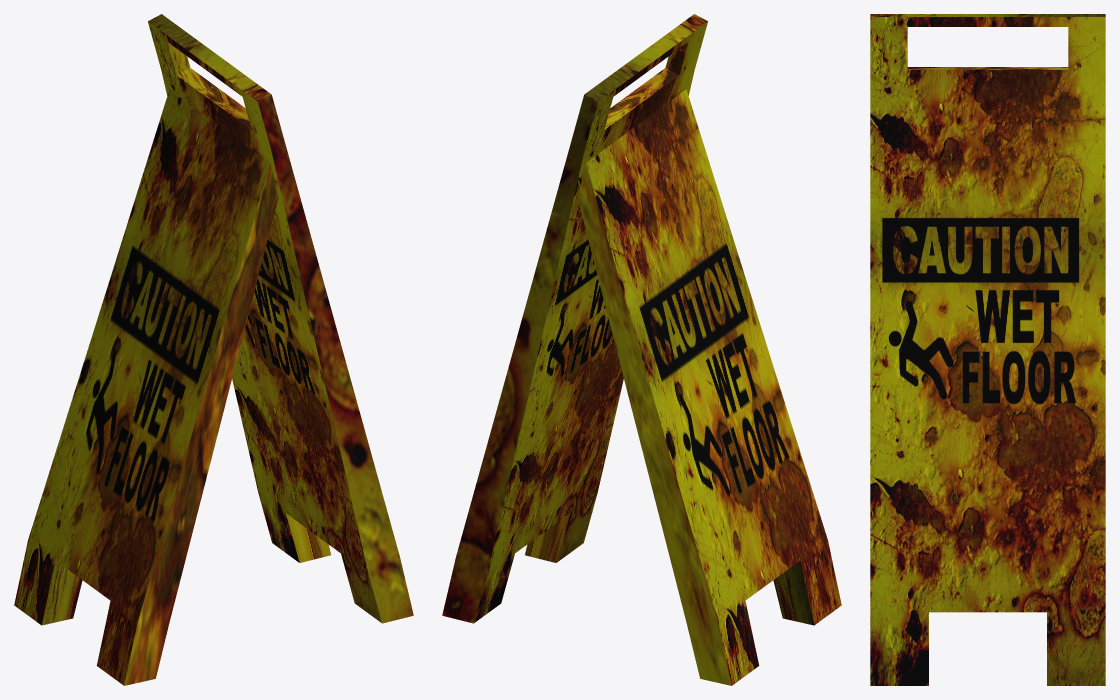
Rendered from wetfloorsign.fbx.
3 renders of one model, left to right at view 1: azimuth 30°, elevation 25°; view 2: azimuth 150°, elevation 25°; view 3: azimuth 270°, elevation 25°, orthographic. The views are drawn at different scales.
Parts seen in each view (by area): view 1: pCube5, pCube4; view 2: pCube5, pCube4; view 3: pCube4.
Boxes of the visible parts, x1,y1,x2,y2 form: pCube5: [14, 89, 278, 685]; pCube4: [148, 14, 413, 623]; pCube5: [577, 89, 841, 685]; pCube4: [442, 14, 707, 623]; pCube4: [870, 14, 1105, 685].
Bounding box in the file's own units: 1.52 × 2.79 × 1.
1 material, 1 textured.
